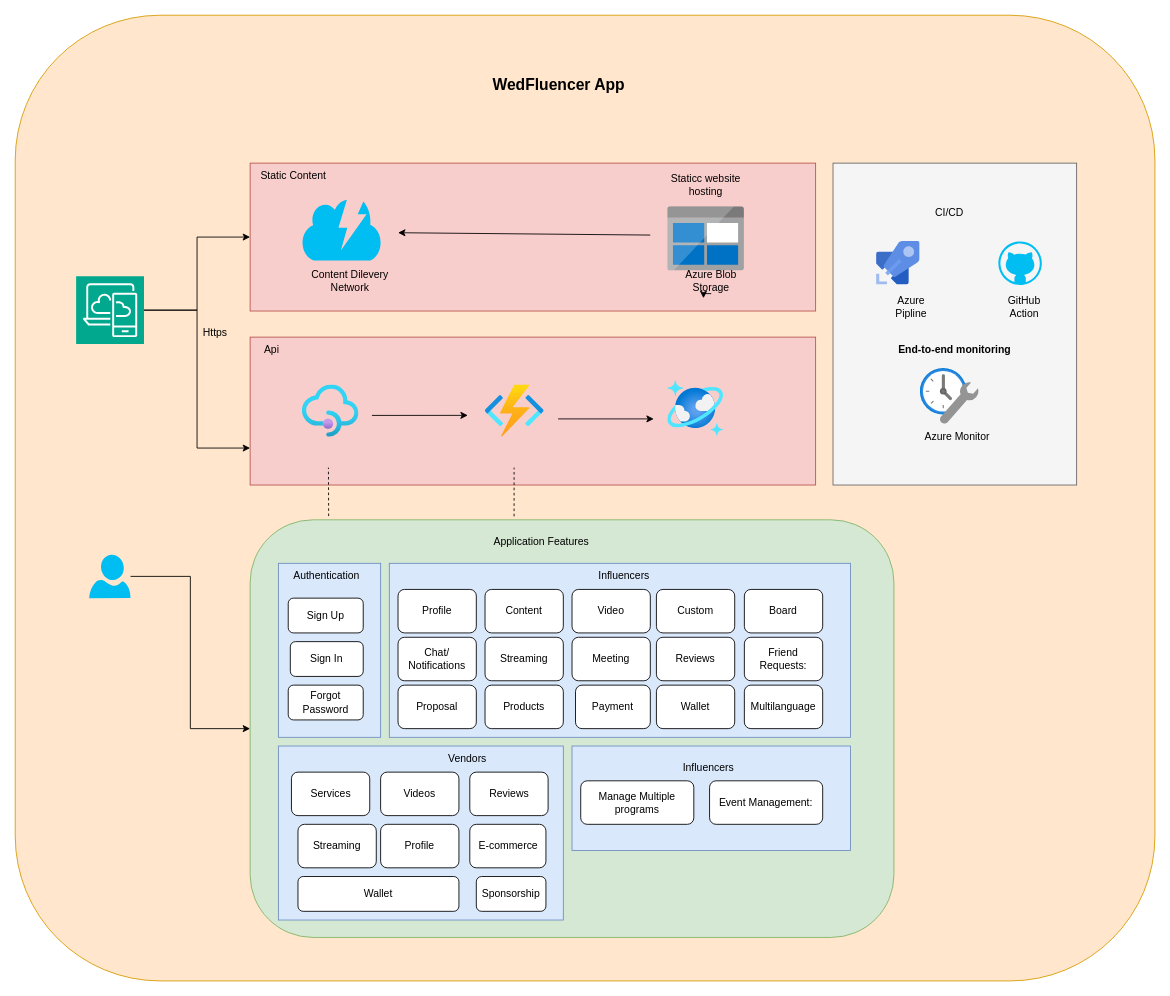
The diagram is 1170 pixels wide and 996 high, and some of its shapes have lost their labels. The centre of each missing label's shape, as x and y in pixels:
"API Mangment" belongs at pixel 330 411.
"Azure Cosmos DB" belongs at pixel 695 408.
"Flutter App" belongs at pixel 109 309.
"Function Apps" belongs at pixel 514 411.
